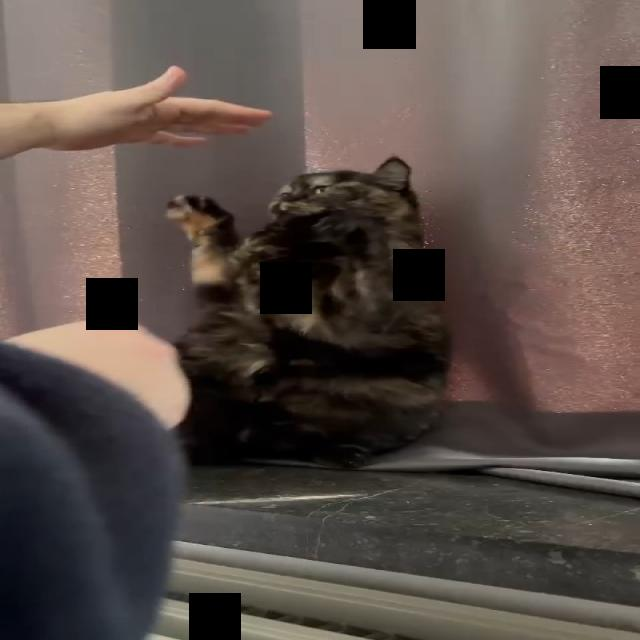authorized: (164, 156, 452, 468)
